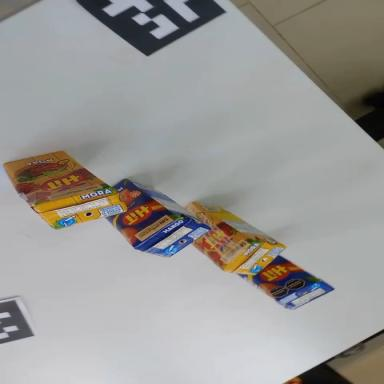HIT-MANGO: (92, 172, 212, 275), (236, 243, 335, 324)
HIT-MORA: (3, 134, 127, 240), (168, 192, 286, 291)
cara_F: (4, 139, 111, 211), (92, 176, 179, 259), (237, 242, 319, 314), (171, 202, 251, 275)
